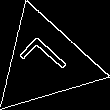L_SE: (15, 34, 75, 91)
